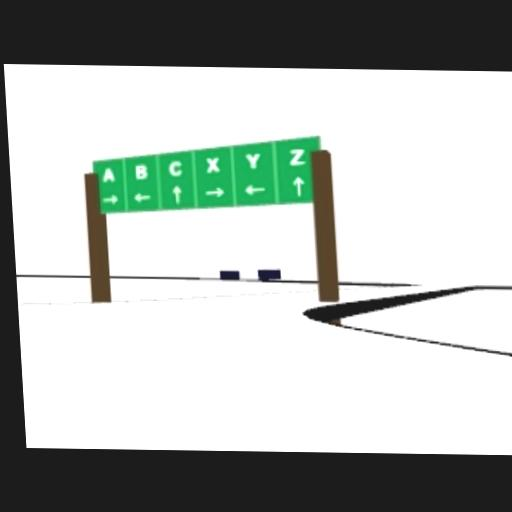A: (100, 167, 116, 184)
B: (134, 164, 150, 182)
C: (168, 161, 184, 178)
Left: (243, 183, 267, 196), (134, 192, 152, 206)
Right: (204, 186, 226, 198), (101, 194, 119, 207)
Straight: (291, 176, 307, 198), (171, 185, 186, 206)
X: (205, 156, 222, 174)
Y: (245, 153, 263, 170)
Z: (288, 148, 307, 166)
